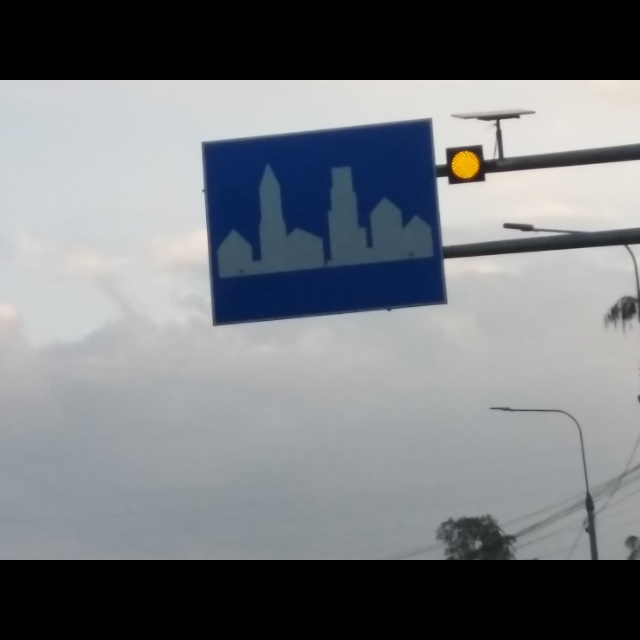Khu đông dân cư: (203, 116, 455, 330)
